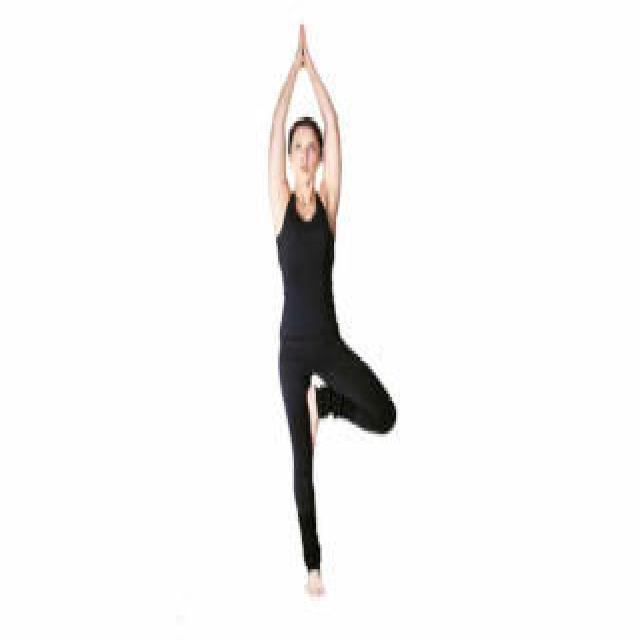yoga-pose tree: (265, 28, 393, 592)
